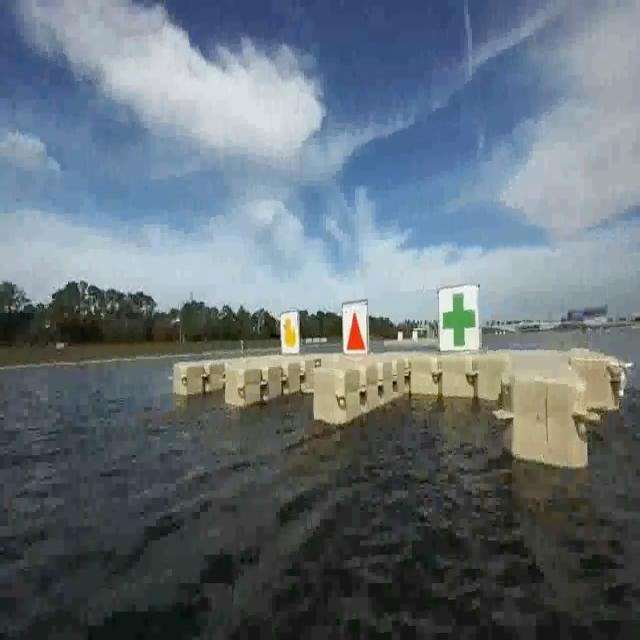blue-cross: (442, 293, 478, 353)
red-dot: (342, 302, 367, 356)
yellow-duck: (279, 308, 298, 351)
